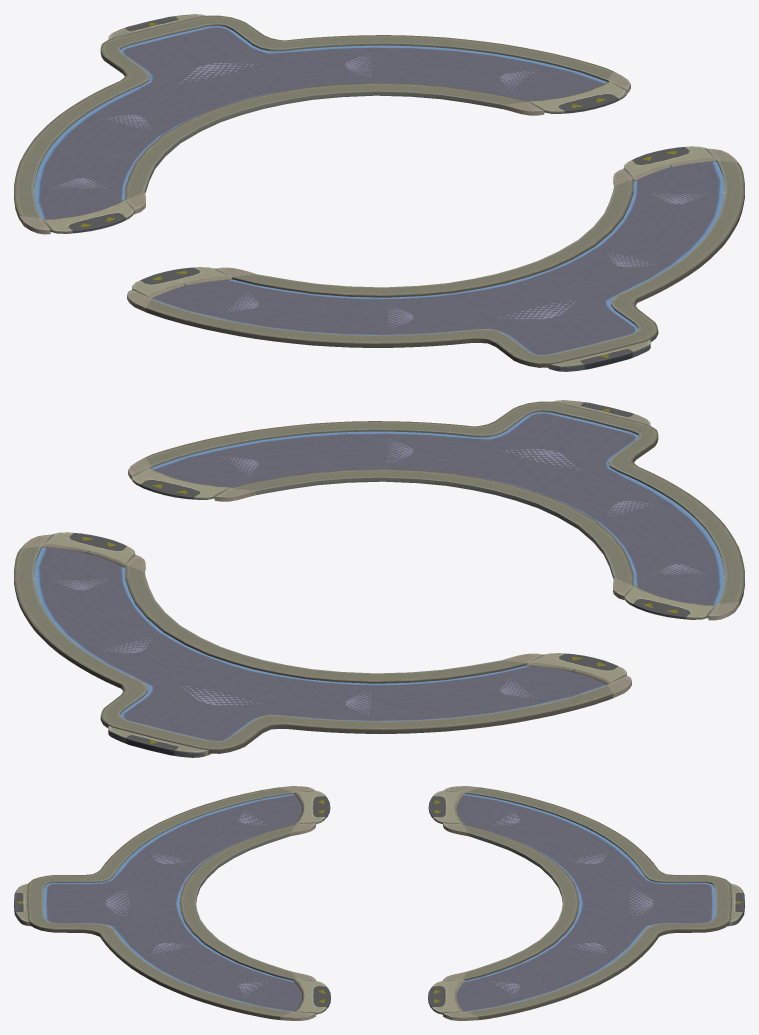
The model's file is pref_sm_garden_line06_lv2.fbx.
3 views of the same model, one above another, from view 1: azimuth 30°, elevation 25°; view 2: azimuth 150°, elevation 25°; view 3: azimuth 270°, elevation 25° (orthographic). The views are drawn at different scales.
Visible parts, largest first — view 1: sm_garden_line06a_lv2, sm_garden_line06_lv2; view 2: sm_garden_line06a_lv2, sm_garden_line06_lv2; view 3: sm_garden_line06a_lv2, sm_garden_line06_lv2.
Part boxes in pixels (bbox=[...]): sm_garden_line06a_lv2: bbox=[34, 26, 724, 355]; sm_garden_line06_lv2: bbox=[14, 14, 744, 371]; sm_garden_line06a_lv2: bbox=[34, 412, 724, 741]; sm_garden_line06_lv2: bbox=[14, 400, 744, 757]; sm_garden_line06a_lv2: bbox=[43, 794, 715, 1011]; sm_garden_line06_lv2: bbox=[14, 786, 744, 1020].
Size of the model in its own units: 18.61 by 0.1908 by 24.81.
